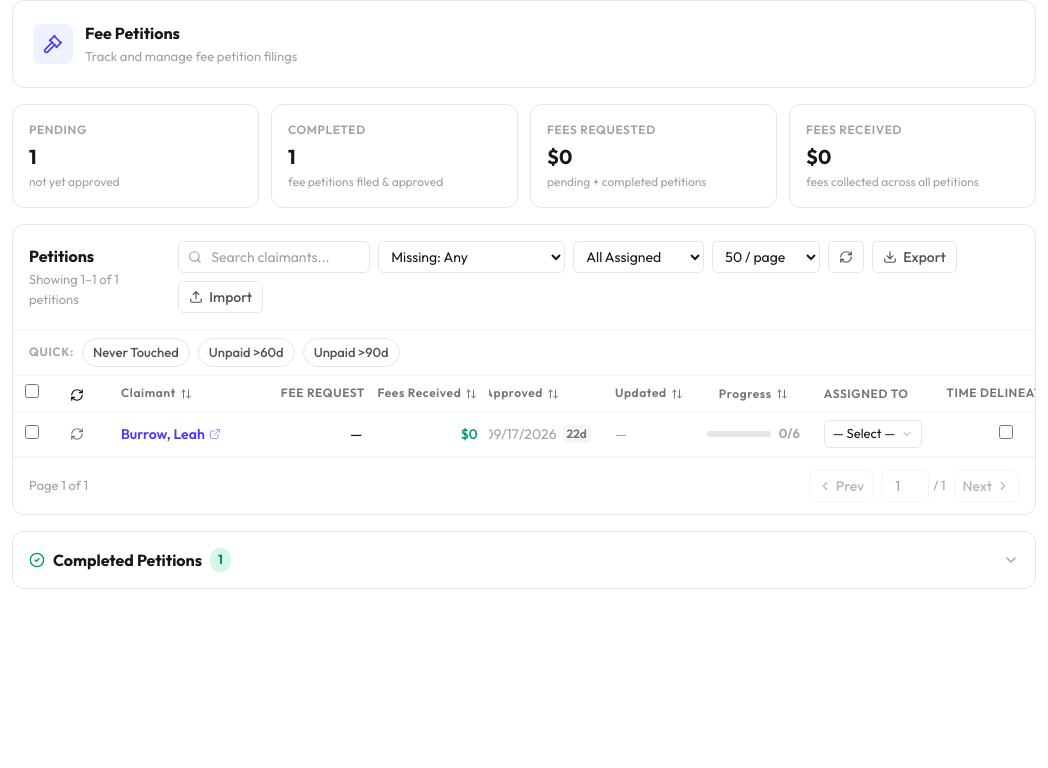
it: Fee Petitions — remove is gated on feePetition.manage › withholds Remove from a user who cannot
Click the checkbox named "Select Burrow, Leah" at [32, 432], box left=25, top=424, right=39, bottom=438
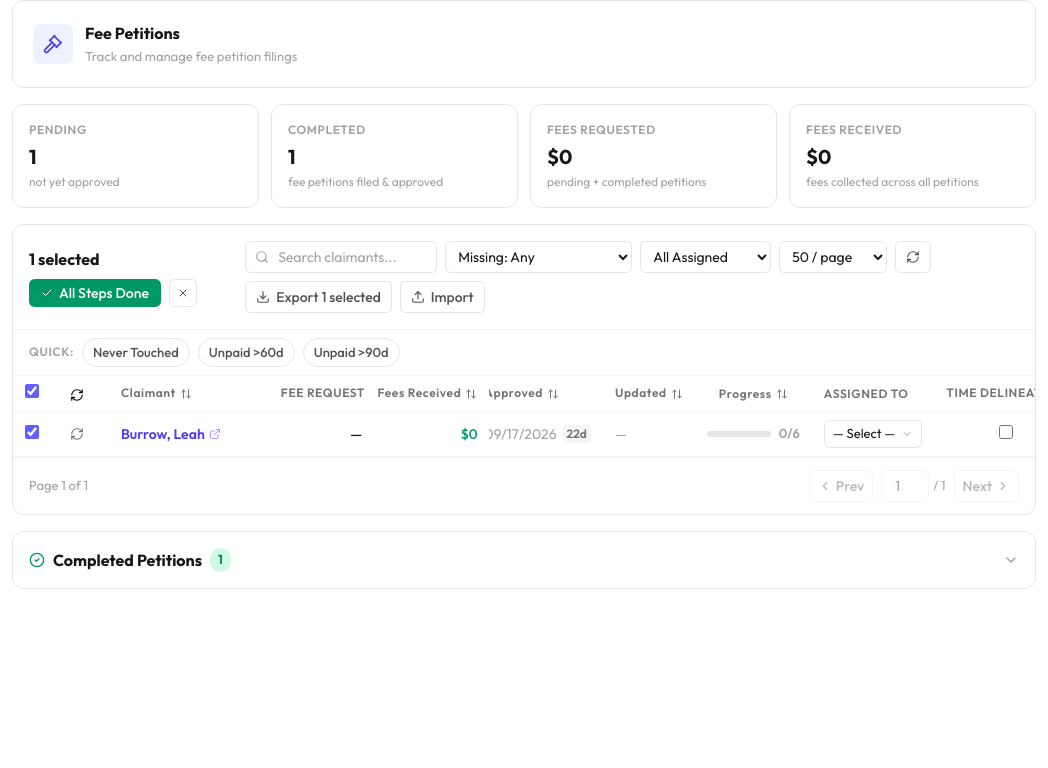
Expected: the button with aria-label "Mark all checklist steps done" is shown, left=29, top=278, right=161, bottom=306
